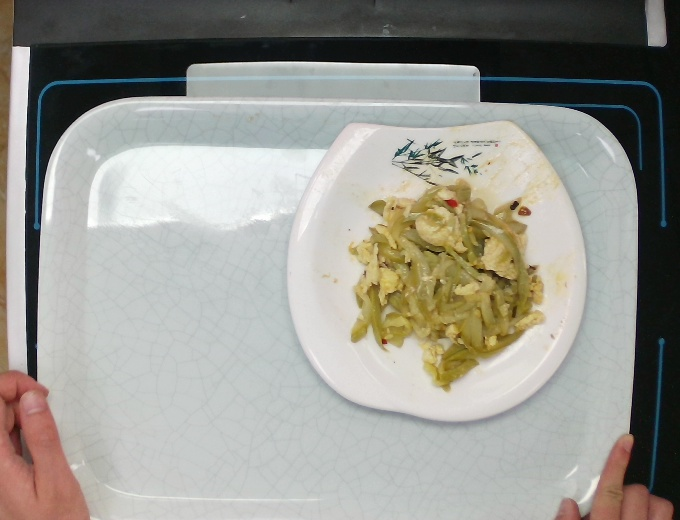JYsf-Mian_Pan: (279, 112, 592, 435)
